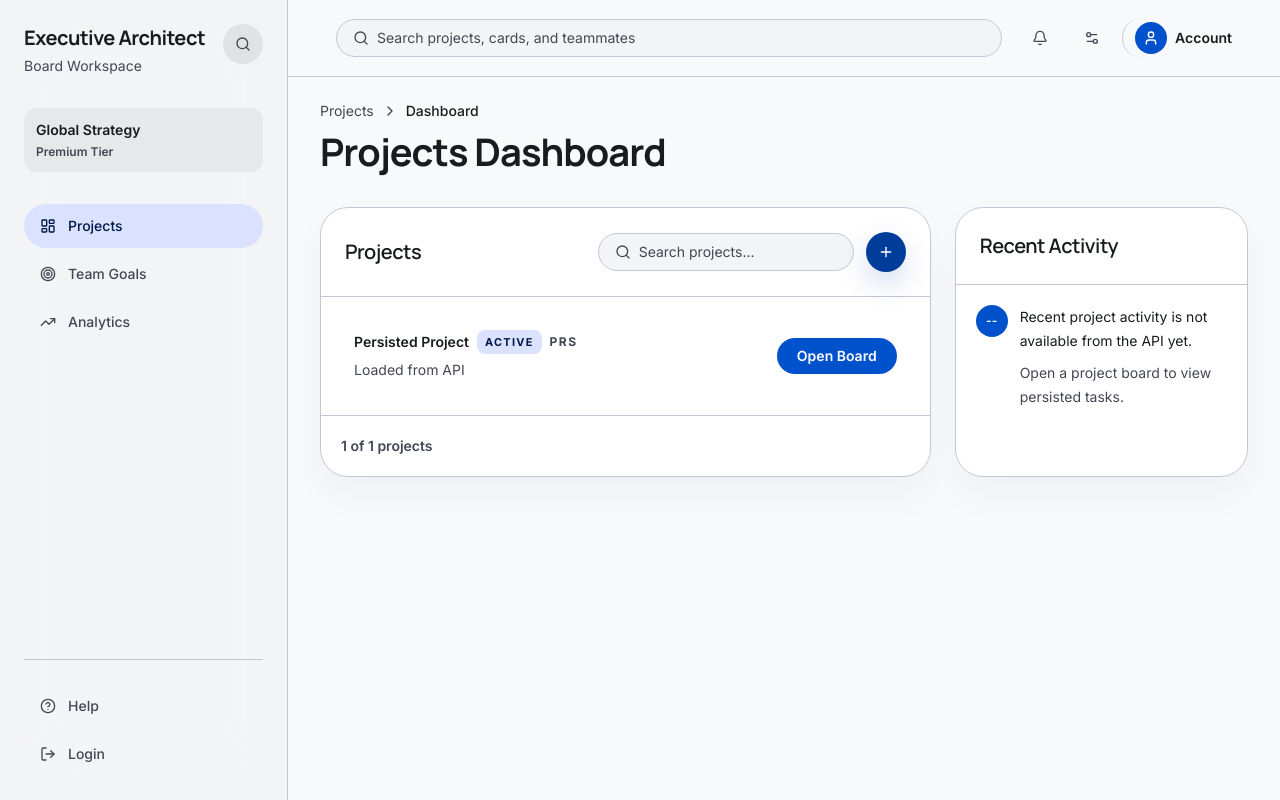
ProjectsPage › renders a search-empty state without the true-empty create CTA
The width and height of the screenshot is (1280, 800).
Type "missing" into the search field with placeholder "Search projects..." at coordinates (738, 252), box top-left (639, 242), bottom-right (837, 262)
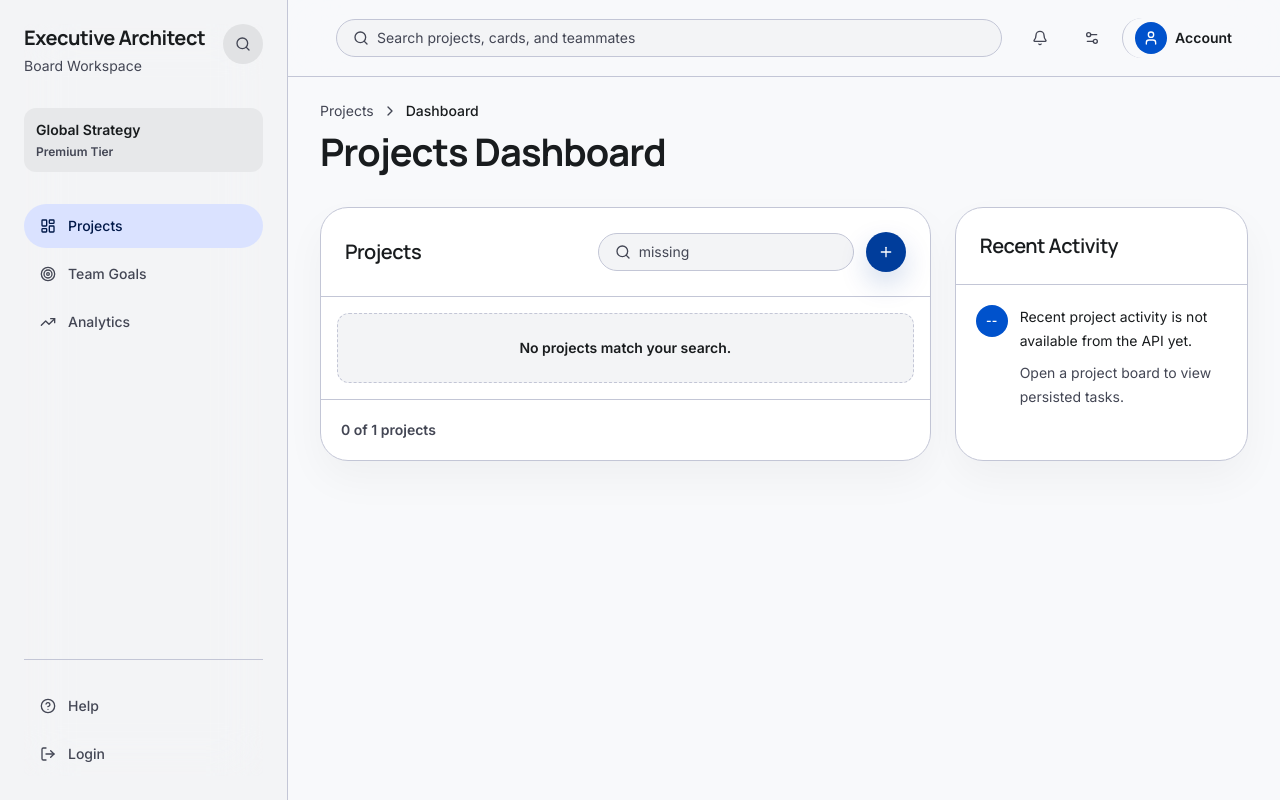
Expected: the link named "add project" is shown, top-left (866, 232), bottom-right (906, 272)
Expected: the text "No projects match your search." is shown, top-left (519, 339), bottom-right (731, 356)
